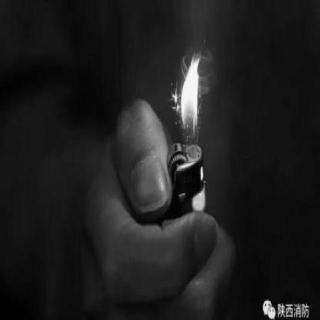Fire: (166, 46, 213, 162)
